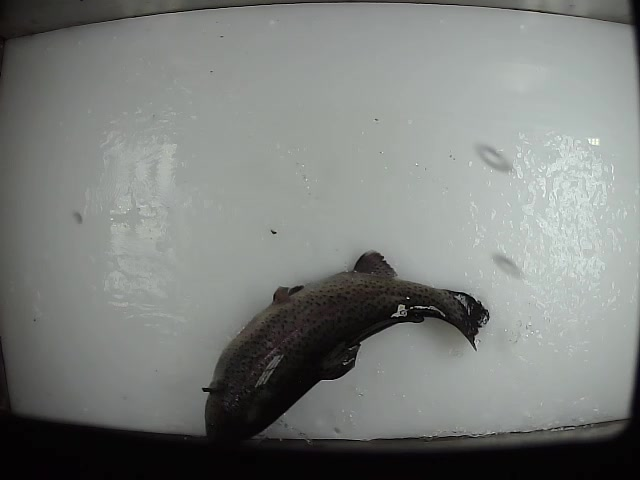fish: (198, 247, 491, 452)
